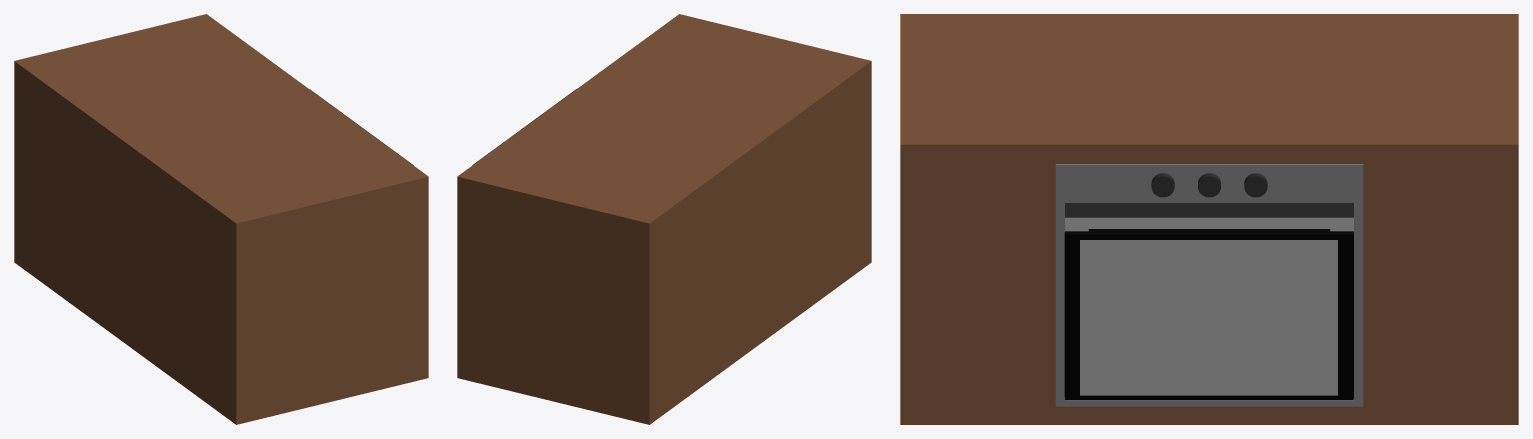
File: oven.fbx
The picture shows the model from 3 angles, left to right: view 1: azimuth 30°, elevation 25°; view 2: azimuth 150°, elevation 25°; view 3: azimuth 270°, elevation 25°; orthographic projection. The views are drawn at different scales.
Visible parts, largest first — view 1: Cube; view 2: Cube; view 3: Cube, Cube.001.
Boxes of the visible parts, x1,y1,x2,y2 form: Cube: [14, 14, 428, 424]; Cube: [457, 14, 871, 424]; Cube: [900, 14, 1518, 424]; Cube.001: [1064, 229, 1353, 399].
Bounding box in the file's own units: 123 × 100 × 200.
